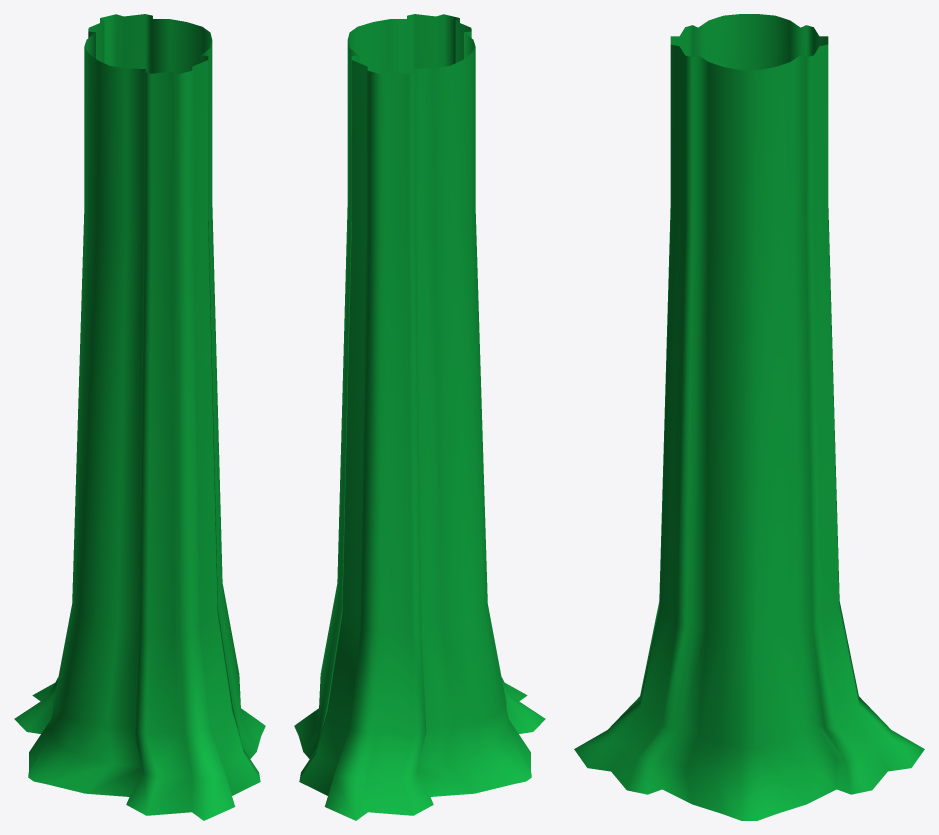
The model's file is Tree_Base.fbx.
3 views of the same model, side by side, from view 1: azimuth 30°, elevation 25°; view 2: azimuth 150°, elevation 25°; view 3: azimuth 270°, elevation 25° (orthographic). The views are drawn at different scales.
Parts seen in each view (by area): view 1: Cylinder001; view 2: Cylinder001; view 3: Cylinder001.
Boxes of the visible parts, x1,y1,x2,y2 form: Cylinder001: (14,14,265,820); Cylinder001: (294,14,545,820); Cylinder001: (574,14,924,820).
Size of the model in its own units: 67.71 by 87.08 by 198.
